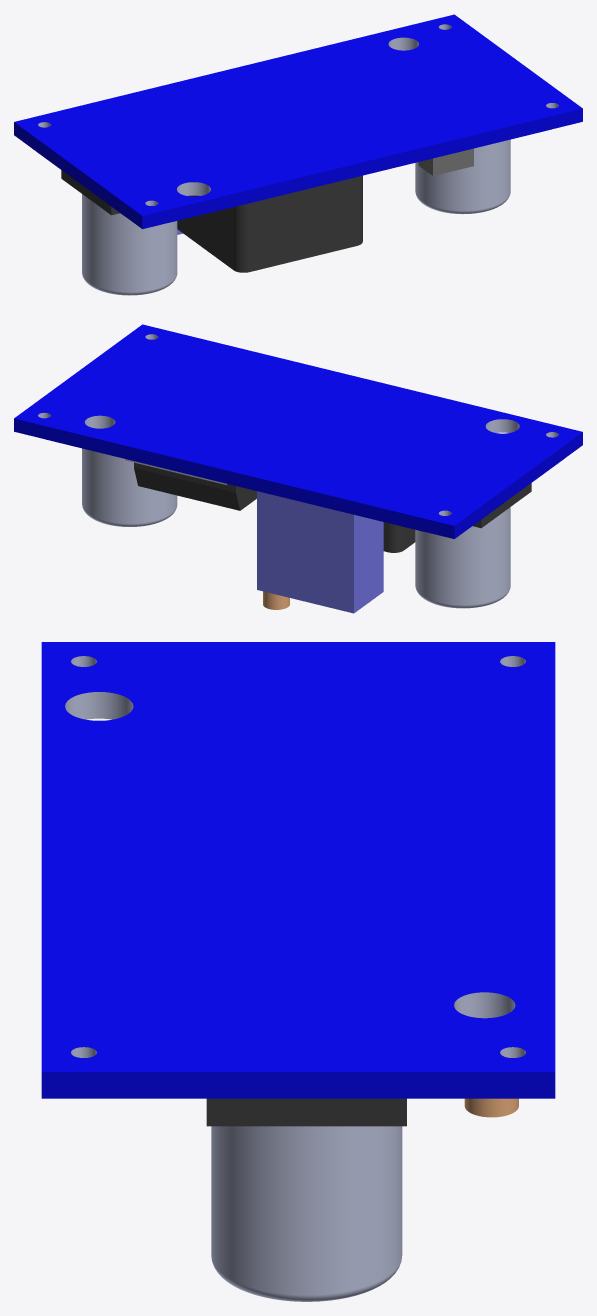
Rendered from ARCADA001 - Part 1 (8).obj.
3 views of the same model, one above another, from view 1: azimuth 30°, elevation 25°; view 2: azimuth 150°, elevation 25°; view 3: azimuth 270°, elevation 25° (orthographic). The views are drawn at different scales.
Visible parts, largest first — view 1: mesh29, mesh163, mesh2, mesh22, mesh211, mesh159, mesh21, mesh167, mesh180, mesh6, mesh166, mesh17; view 2: mesh29, mesh169, mesh2, mesh18, mesh211, mesh168, mesh185, mesh21, mesh184, mesh6, mesh164, mesh17 (+1 smaller); view 3: mesh29, mesh211, mesh14, mesh154, mesh17, mesh16, mesh212, mesh214.
Part boxes in pixels (x1=…): mesh29: x1=14, y1=14, x2=582, y2=215; mesh163: x1=249, y1=177, x2=356, y2=271; mesh2: x1=82, y1=194, x2=177, y2=291; mesh22: x1=142, y1=108, x2=582, y2=229; mesh211: x1=415, y1=139, x2=510, y2=210; mesh159: x1=177, y1=195, x2=233, y2=269; mesh21: x1=14, y1=122, x2=142, y2=228; mesh167: x1=233, y1=203, x2=249, y2=272; mesh180: x1=433, y1=148, x2=473, y2=175; mesh6: x1=61, y1=170, x2=111, y2=214; mesh166: x1=357, y1=175, x2=362, y2=245; mesh17: x1=177, y1=182, x2=210, y2=195; mesh29: x1=14, y1=324, x2=582, y2=525; mesh169: x1=257, y1=491, x2=353, y2=613; mesh2: x1=415, y1=507, x2=510, y2=604; mesh18: x1=14, y1=418, x2=454, y2=538; mesh211: x1=82, y1=448, x2=177, y2=523; mesh168: x1=354, y1=515, x2=383, y2=613; mesh185: x1=134, y1=468, x2=239, y2=510; mesh21: x1=454, y1=432, x2=582, y2=538; mesh184: x1=134, y1=462, x2=235, y2=492; mesh6: x1=481, y1=483, x2=531, y2=527; mesh164: x1=388, y1=523, x2=403, y2=552; mesh17: x1=485, y1=419, x2=519, y2=432; mesh29: x1=41, y1=642, x2=555, y2=1071; mesh211: x1=211, y1=1126, x2=402, y2=1294; mesh14: x1=41, y1=1072, x2=555, y2=1098; mesh154: x1=206, y1=1098, x2=406, y2=1126; mesh17: x1=65, y1=692, x2=133, y2=719; mesh16: x1=454, y1=992, x2=515, y2=1018; mesh212: x1=211, y1=1255, x2=402, y2=1301; mesh214: x1=464, y1=1098, x2=518, y2=1117.
Bounding box in the file's own units: 0.0432 × 0.0128 × 0.0218.
